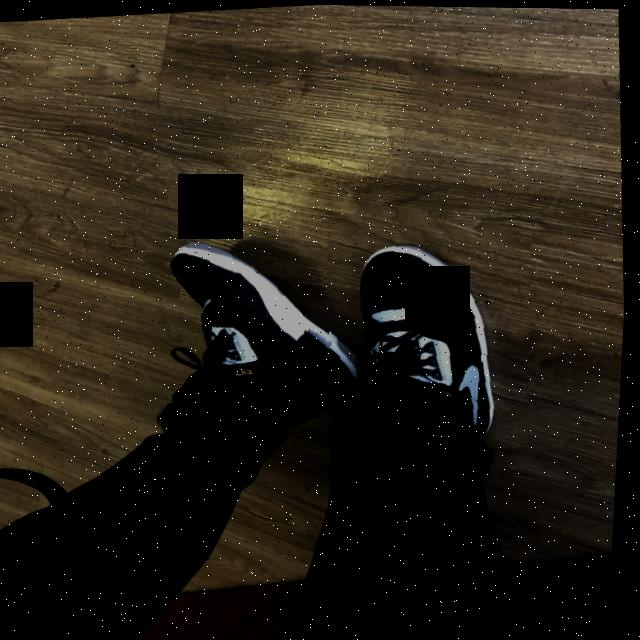shoe: (321, 220, 549, 458), (146, 217, 382, 437)
